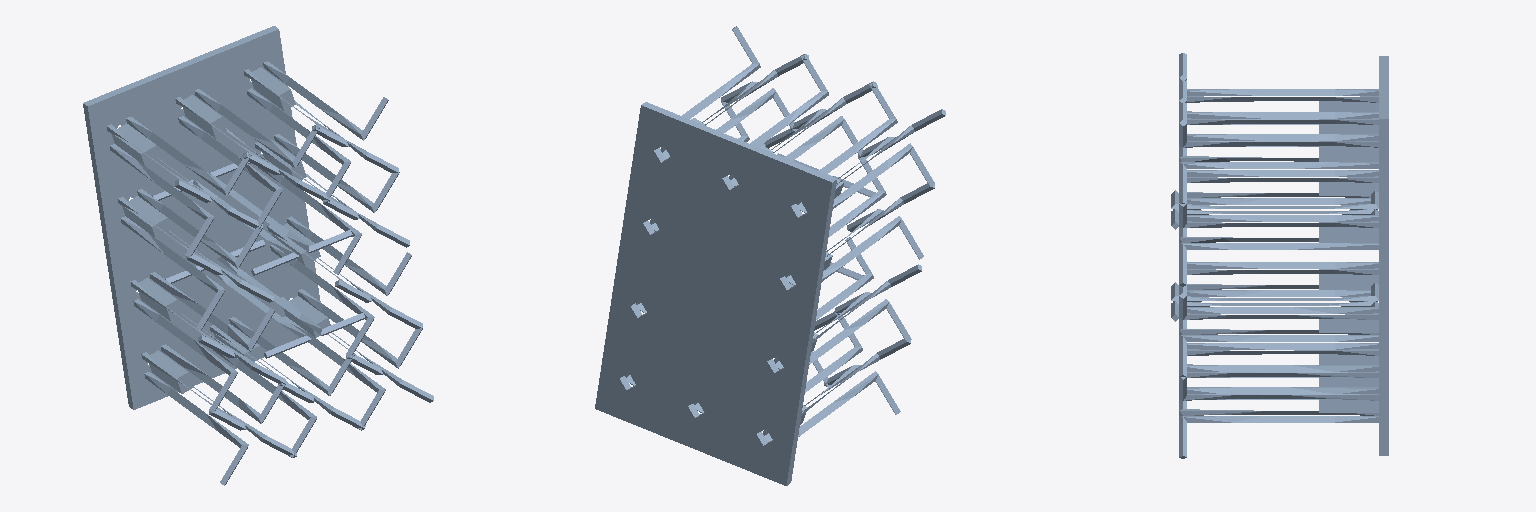
3 views of the same model, side by side, from view 1: azimuth 30°, elevation 25°; view 2: azimuth 150°, elevation 25°; view 3: azimuth 270°, elevation 25° (orthographic).
Parts seen in each view (by area): view 1: g[number redacted]_1; view 2: g[number redacted]_1; view 3: g[number redacted]_1.
Boxes of the visible parts, x1=… form: g[number redacted]_1: x1=83, y1=26, x2=433, y2=485; g[number redacted]_1: x1=595, y1=26, x2=945, y2=485; g[number redacted]_1: x1=1171, y1=53, x2=1388, y2=458.
Bounding box in the file's own units: 74.89 × 96.66 × 54.4.